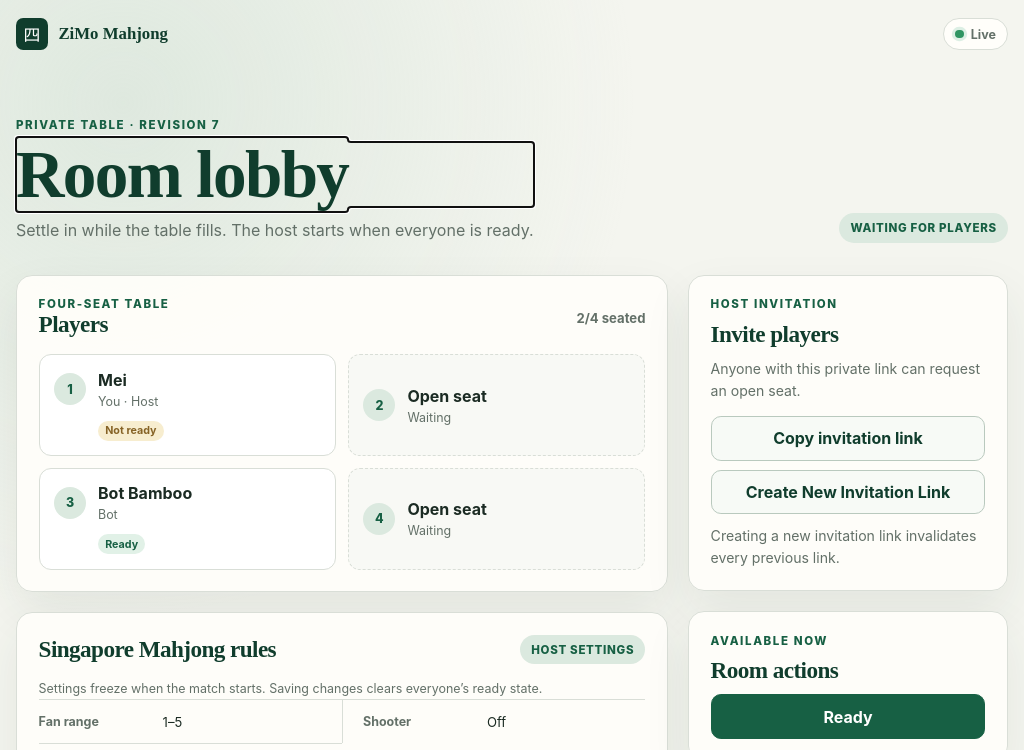
Test: room UI › disables only the in-flight descriptor and retries with the same UUID
The width and height of the screenshot is (1024, 750).
What coordinates should you click on to do the following:
click the button "Ready"
I would click on:
 (848, 717)
Its box is [711,694,985,739].
(page scrolled)
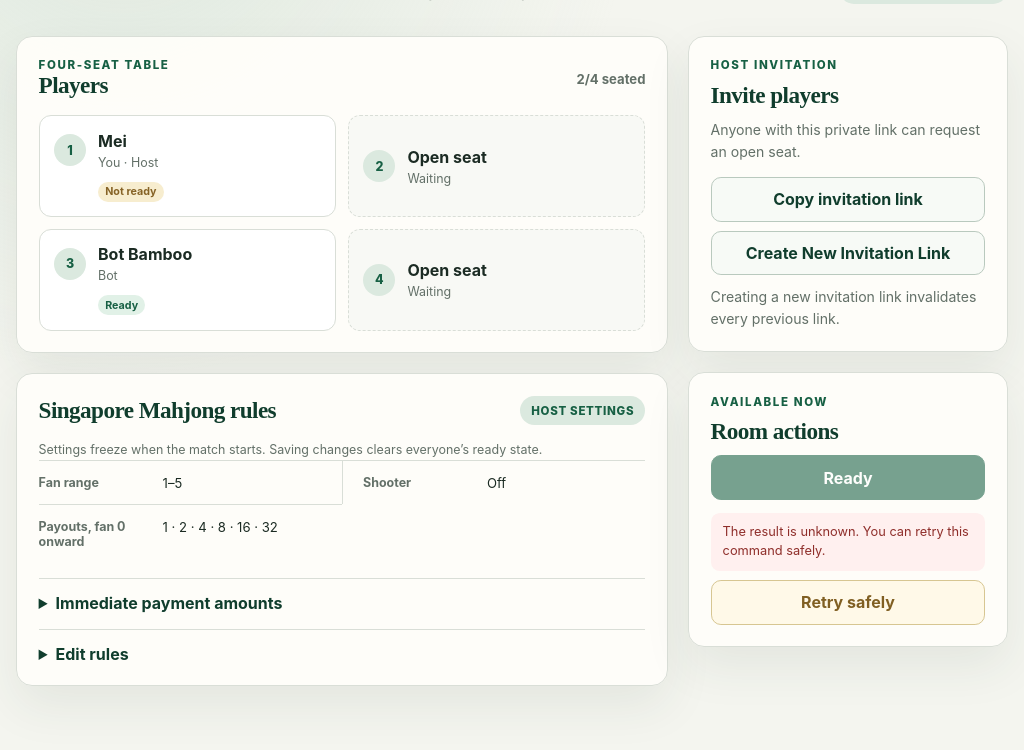
expect the button "Create New Invitation Link" is enabled: met, box [711,230,985,275]
expect the button with aria-label "Retry Ready safely" is shown: met
expect the button "Ready" is disabled: met, box [711,456,985,500]
What coordinates should you click on to do the following:
click the button with aria-label "Retry Ready safely"
I would click on:
 (848, 602)
Its box is [711,580,985,625].
(page scrolled)
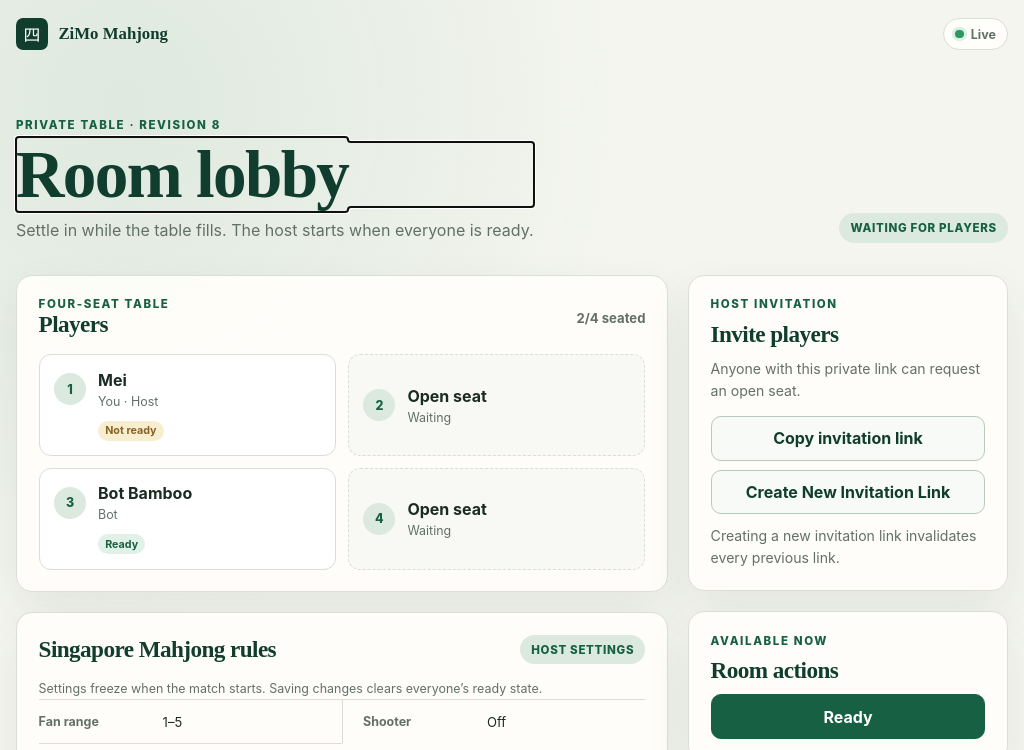
expect the text "Revision 8" is shown: met, box [16,118,221,132]
